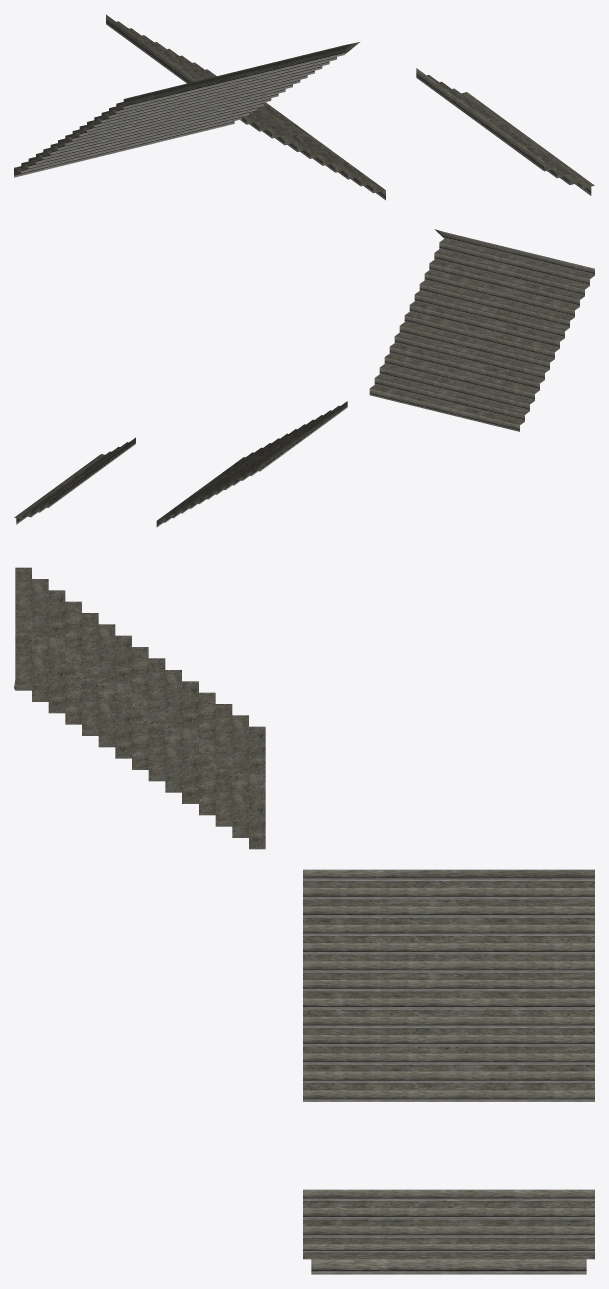
Rendered from DWARF_PALACE_EREBORROOM_STAIRS01.obj.
The picture shows the model from 3 angles, top to bottom: view 1: azimuth 30°, elevation 25°; view 2: azimuth 150°, elevation 25°; view 3: azimuth 270°, elevation 25°; orthographic projection. The views are drawn at different scales.
Visible parts, largest first — view 1: orroom_stairs01; view 2: orroom_stairs01; view 3: orroom_stairs01.
Boxes of the visible parts, bbox=[...] form: orroom_stairs01: bbox=[14, 14, 594, 200]; orroom_stairs01: bbox=[14, 229, 594, 527]; orroom_stairs01: bbox=[14, 567, 594, 1274].
Size of the model in its own units: 1887 by 1020 by 1393.
